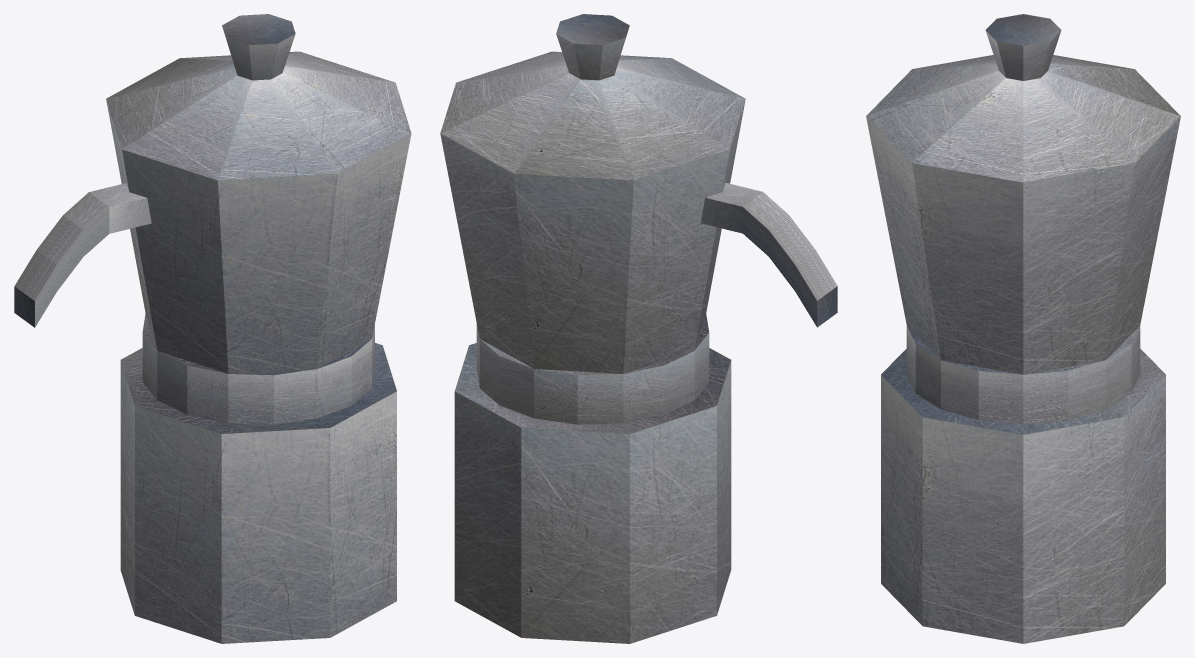
File: Coffee kettle.fbx
The picture shows the model from 3 angles, left to right: view 1: azimuth 30°, elevation 25°; view 2: azimuth 150°, elevation 25°; view 3: azimuth 270°, elevation 25°; orthographic projection.
Visible parts, largest first — view 1: MokaPot_Base, MokaPot_TopChamber, MokaPot_Lid, MokaPot_Ring, Cube, MokaPot_Knob; view 2: MokaPot_Base, MokaPot_TopChamber, MokaPot_Lid, MokaPot_Ring, Cube, MokaPot_Knob; view 3: MokaPot_Base, MokaPot_TopChamber, MokaPot_Lid, MokaPot_Ring, MokaPot_Knob.
Part boxes in pixels (<box>): MokaPot_Base: <box>120,343,396,643</box>; MokaPot_TopChamber: <box>106,100,411,373</box>; MokaPot_Lid: <box>106,51,411,180</box>; MokaPot_Ring: <box>142,314,374,424</box>; Cube: <box>14,183,151,327</box>; MokaPot_Knob: <box>222,14,295,80</box>; MokaPot_Base: <box>454,343,731,643</box>; MokaPot_TopChamber: <box>440,101,745,373</box>; MokaPot_Lid: <box>440,51,745,180</box>; MokaPot_Ring: <box>476,314,709,424</box>; Cube: <box>700,182,837,327</box>; MokaPot_Knob: <box>556,14,629,80</box>; MokaPot_Base: <box>881,349,1165,643</box>; MokaPot_TopChamber: <box>866,116,1180,374</box>; MokaPot_Lid: <box>866,55,1180,182</box>; MokaPot_Ring: <box>906,325,1140,423</box>; MokaPot_Knob: <box>985,14,1061,80</box>.
Size of the model in its own units: 15.72 by 22.5 by 11.6.
Materials: 6 (6 with a texture image).
